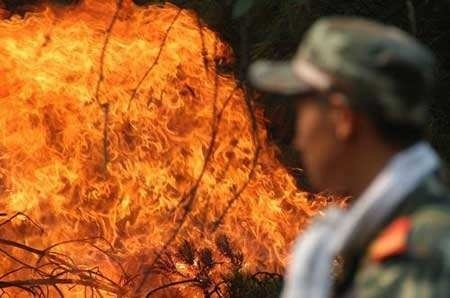fire: (10, 12, 360, 277)
